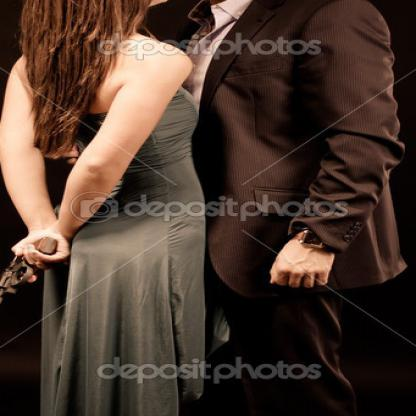gun: (0, 224, 70, 316)
